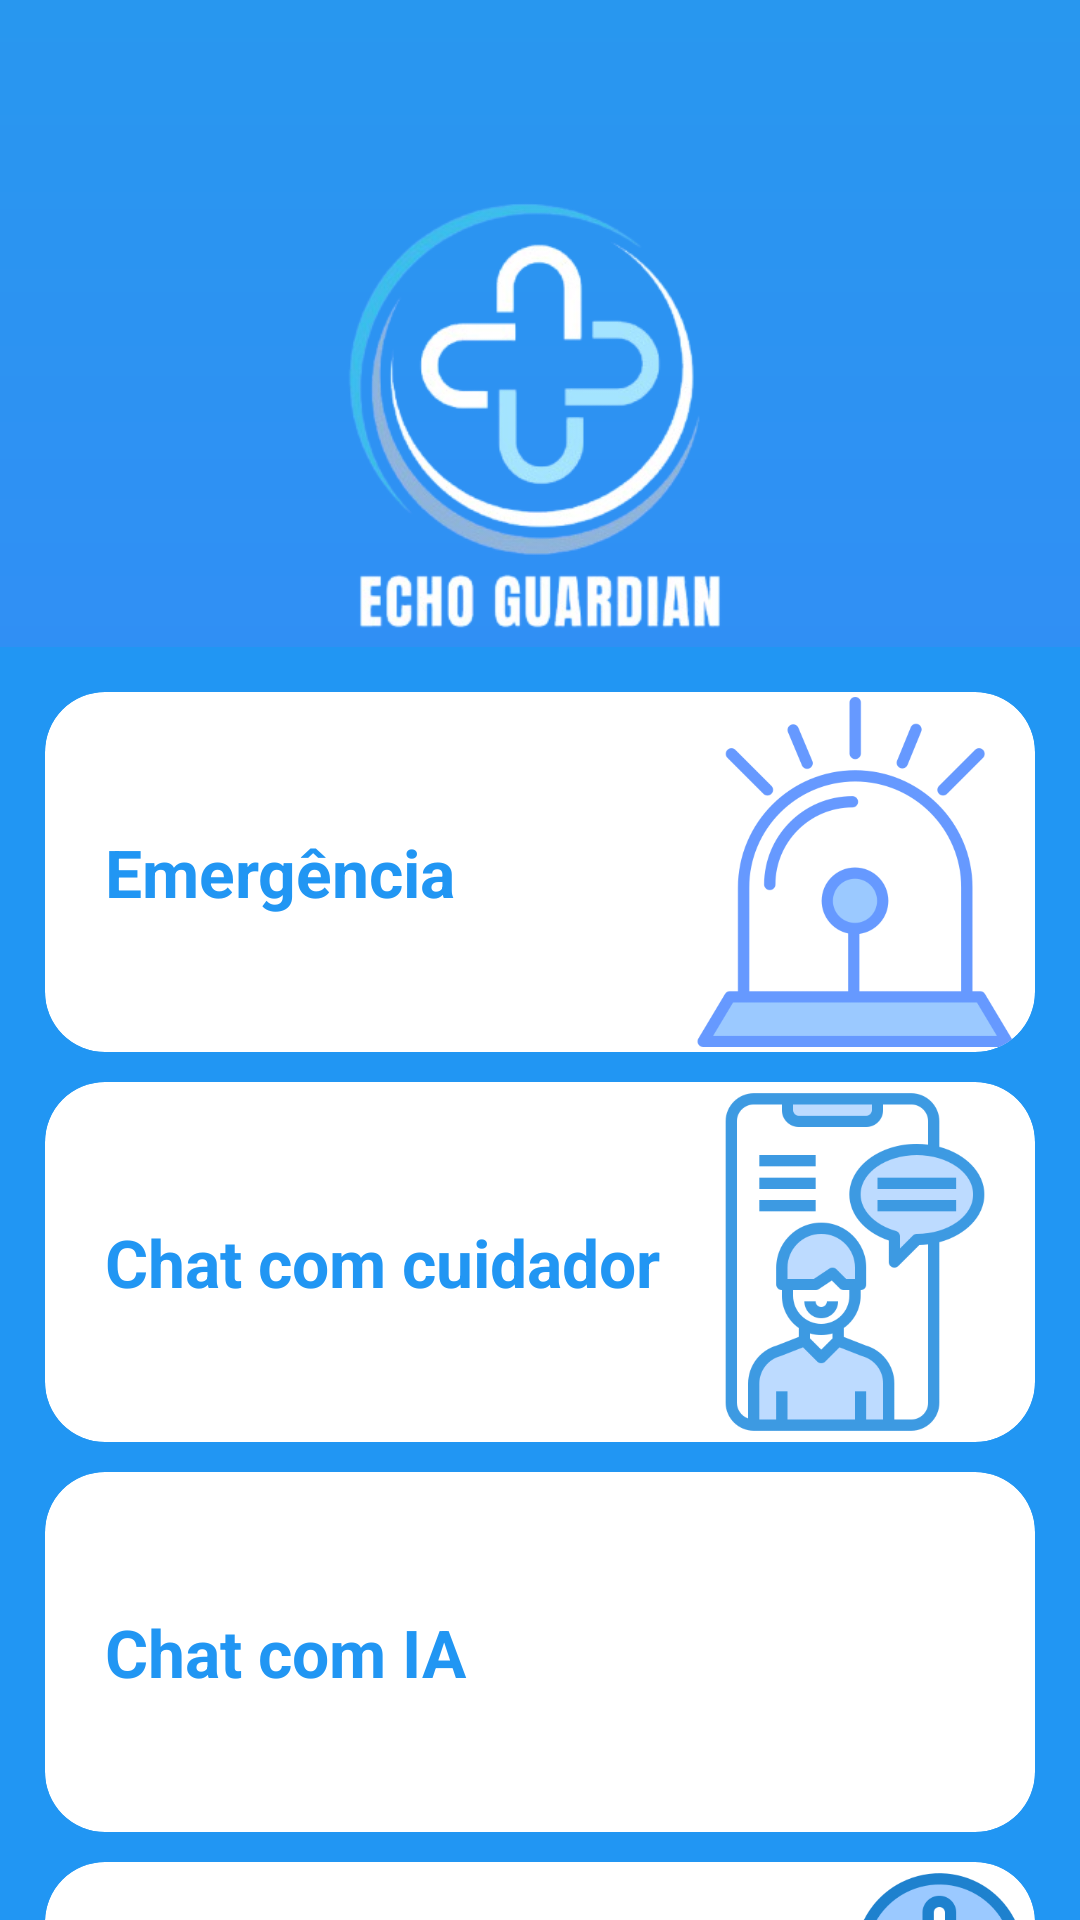

Icon bounding boxes for this 1080px×1920px phone screenshot, format box(x1, y1, x2, y2):
emergencia: box(675, 692, 1035, 1052)
